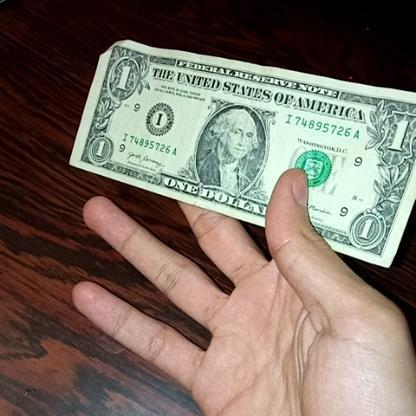dollar_front: (66, 36, 416, 244)
